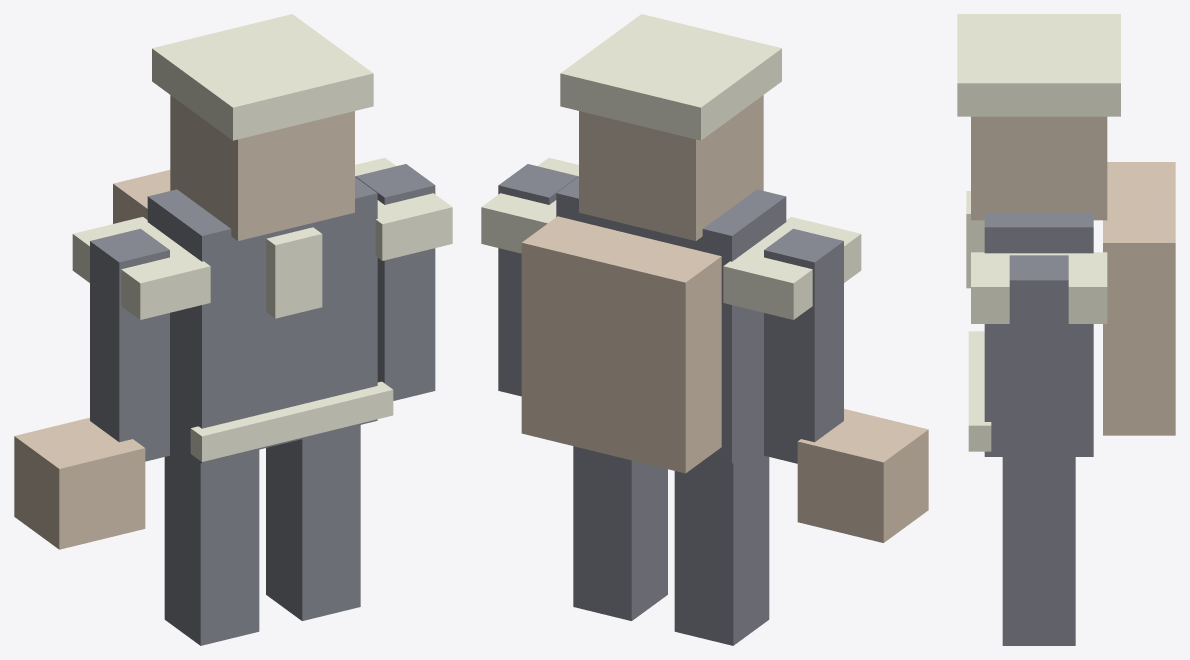
Rendered from 07_yara_skyharrow_mechanist_near_laser.glb.
3 renders of one model, left to right at view 1: azimuth 30°, elevation 25°; view 2: azimuth 150°, elevation 25°; view 3: azimuth 270°, elevation 25°, orthographic.
Parts seen in each view (by area): view 1: Yara Skyharrow, Mechanist near Laser; view 2: Yara Skyharrow, Mechanist near Laser; view 3: Yara Skyharrow, Mechanist near Laser.
Boxes of the visible parts, left/top/right/bottom form: Yara Skyharrow, Mechanist near Laser: left=14, top=14, right=452, bottom=645; Yara Skyharrow, Mechanist near Laser: left=481, top=14, right=928, bottom=645; Yara Skyharrow, Mechanist near Laser: left=957, top=14, right=1175, bottom=645.
Size of the model in its own units: 1.08 by 1.47 by 0.5225.
